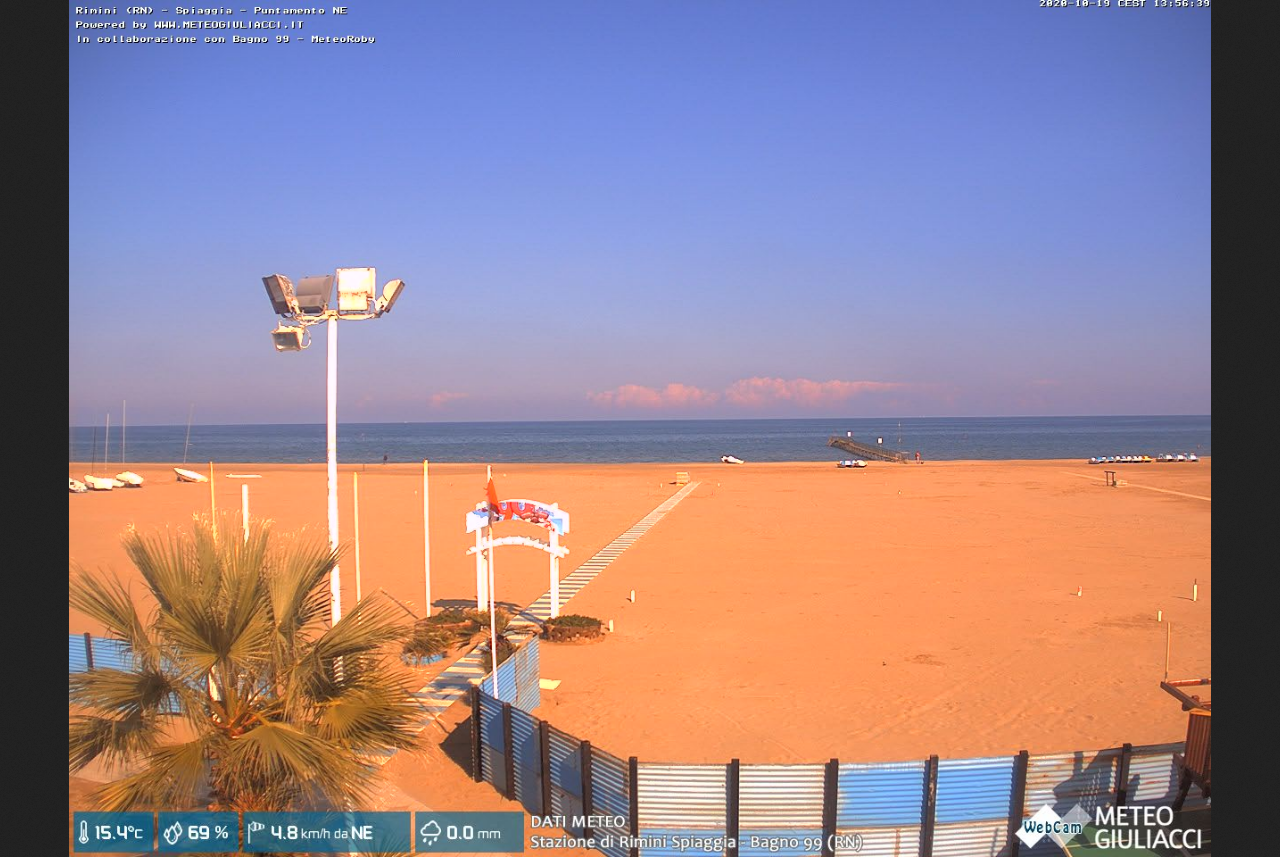maybe: (482, 468, 504, 520)
